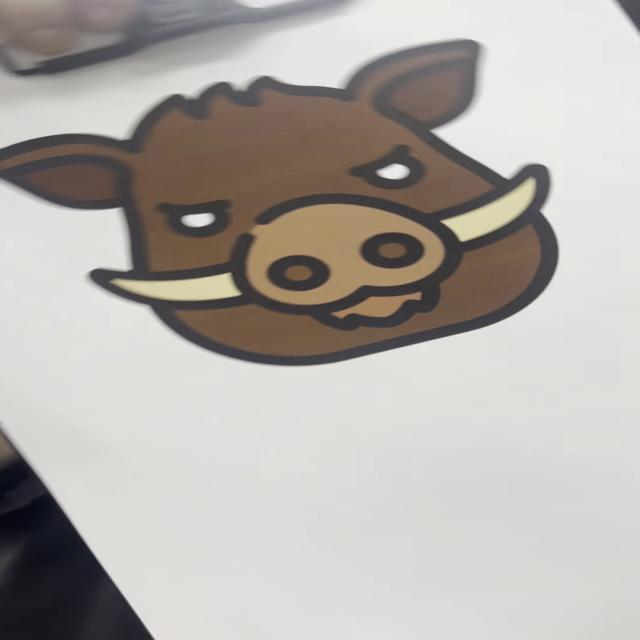animal: (1, 38, 567, 369)
